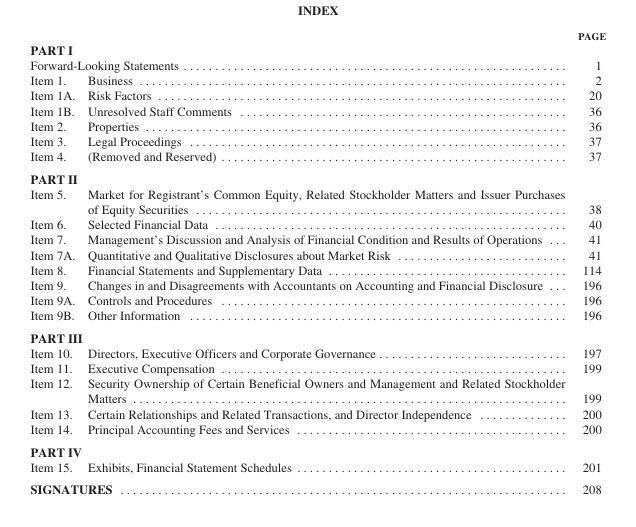table: (29, 29, 605, 496)
table column: (80, 29, 570, 496), (29, 29, 80, 496), (570, 29, 605, 496)
table column header: (29, 29, 605, 41)
table projected row header: (29, 166, 605, 186), (29, 326, 605, 345), (29, 439, 605, 458), (29, 41, 605, 57)
table row: (29, 186, 605, 216), (29, 375, 605, 405), (29, 166, 605, 186), (29, 307, 605, 326), (29, 326, 605, 345), (29, 420, 605, 439), (29, 439, 605, 458), (29, 458, 605, 477), (29, 477, 605, 496), (29, 148, 605, 166), (29, 41, 605, 57), (29, 117, 605, 133), (29, 276, 605, 292), (29, 57, 605, 72), (29, 72, 605, 87), (29, 87, 605, 102), (29, 102, 605, 117), (29, 133, 605, 148), (29, 216, 605, 231), (29, 231, 605, 246), (29, 246, 605, 261), (29, 261, 605, 276), (29, 292, 605, 307), (29, 345, 605, 360), (29, 360, 605, 375), (29, 405, 605, 420), (29, 29, 605, 41)
table spanning cell: (29, 477, 570, 496), (29, 57, 570, 72)
